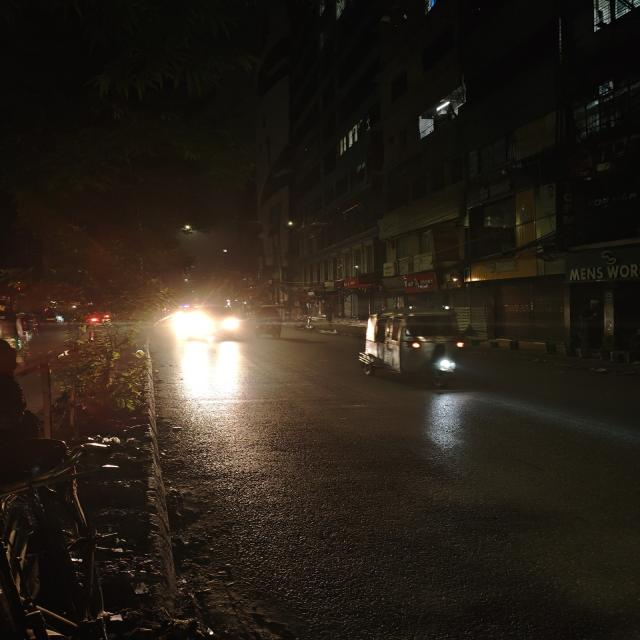car: (176, 304, 246, 346)
rickshaw: (350, 308, 474, 390), (248, 308, 286, 339)
truck: (351, 308, 474, 392)
